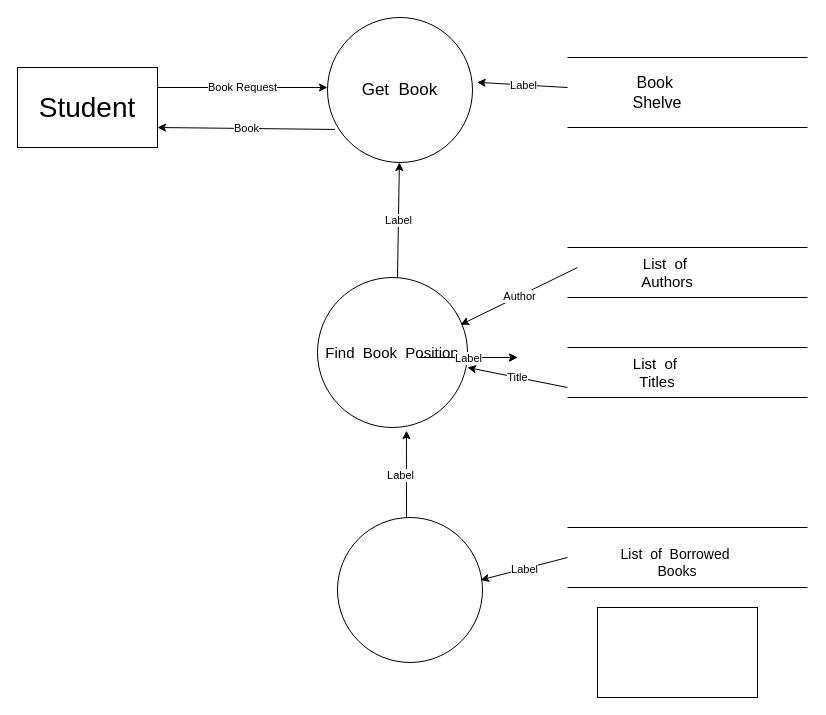
Some shapes in this 826 by 715 pixel diagram are drawn without their labels. Each missing label, with the box of its shape:
Display of Book: (596, 606, 758, 698)
Updated List of borrowed book: (336, 516, 482, 662)
